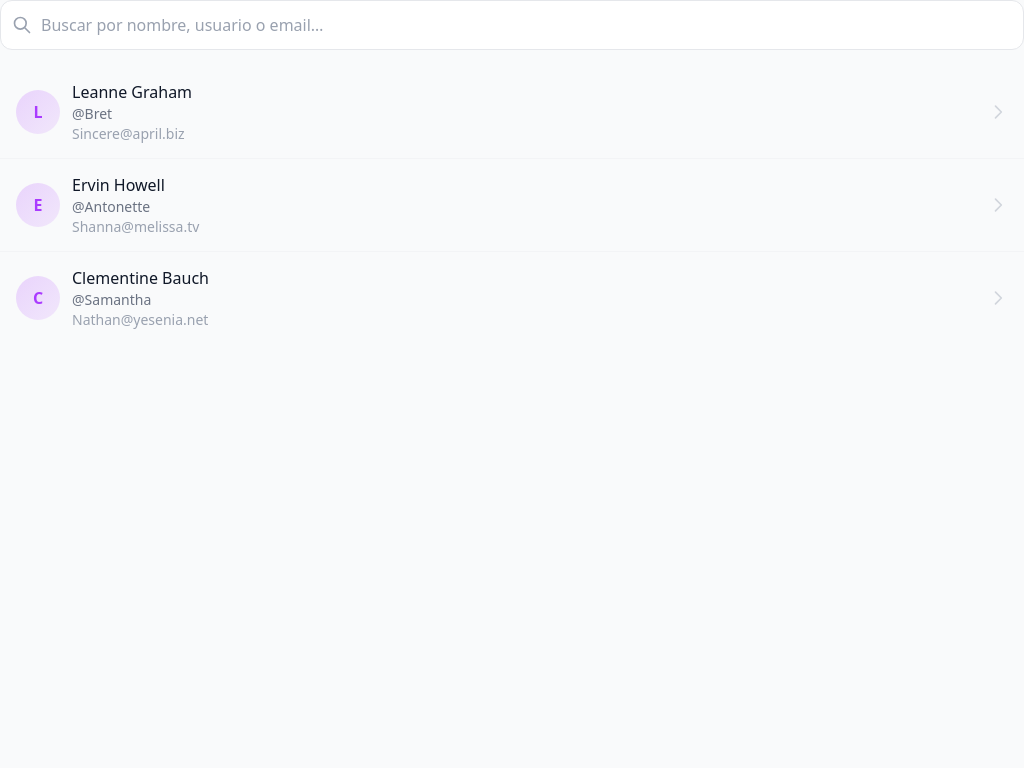
Create Post Dialog › validates required fields on submit
Step 1. Click the heading "Leanne Graham" → (132, 92), box [72,81,192,103]
(page scrolled)
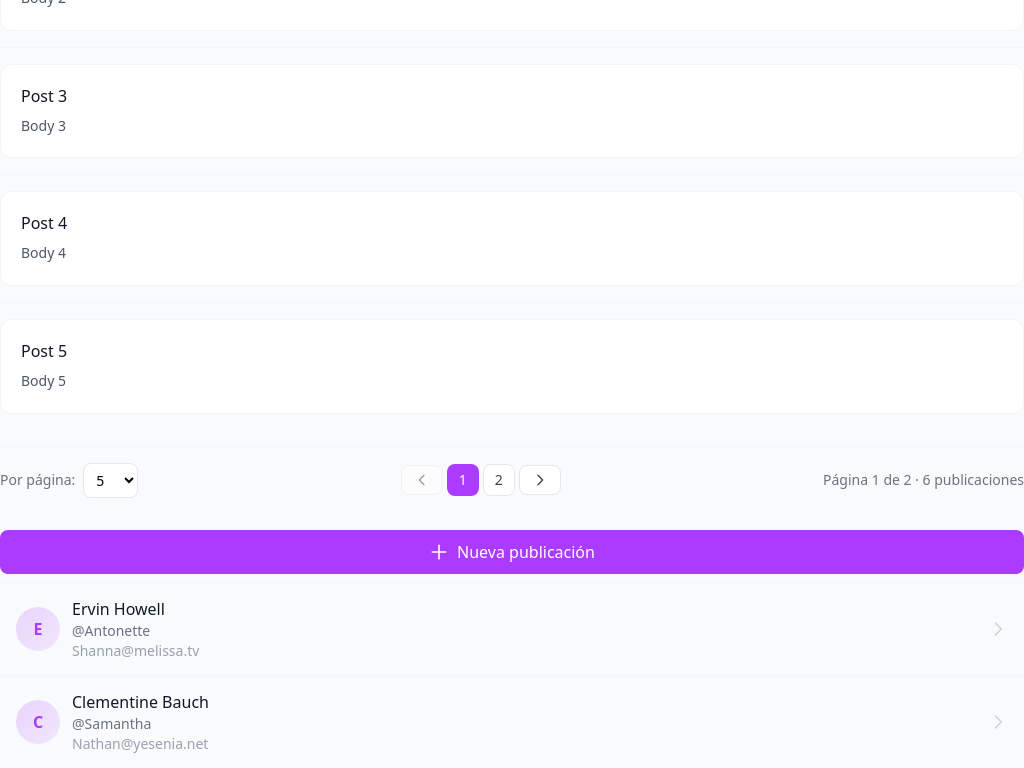
Step 2. Click the button "Nueva publicación" → (512, 552), box [0,530,1023,574]
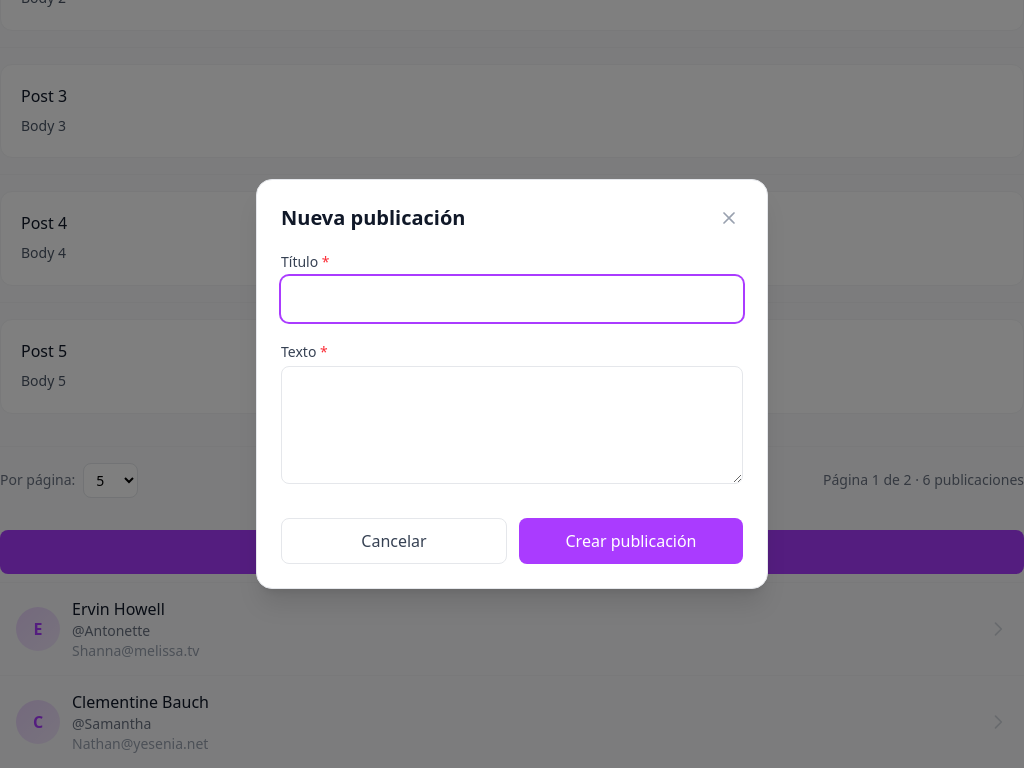
Now the dialog "Nueva publicación" is shown
Step 3. Click the button "Crear publicación" → (631, 541), box [519,518,743,564]
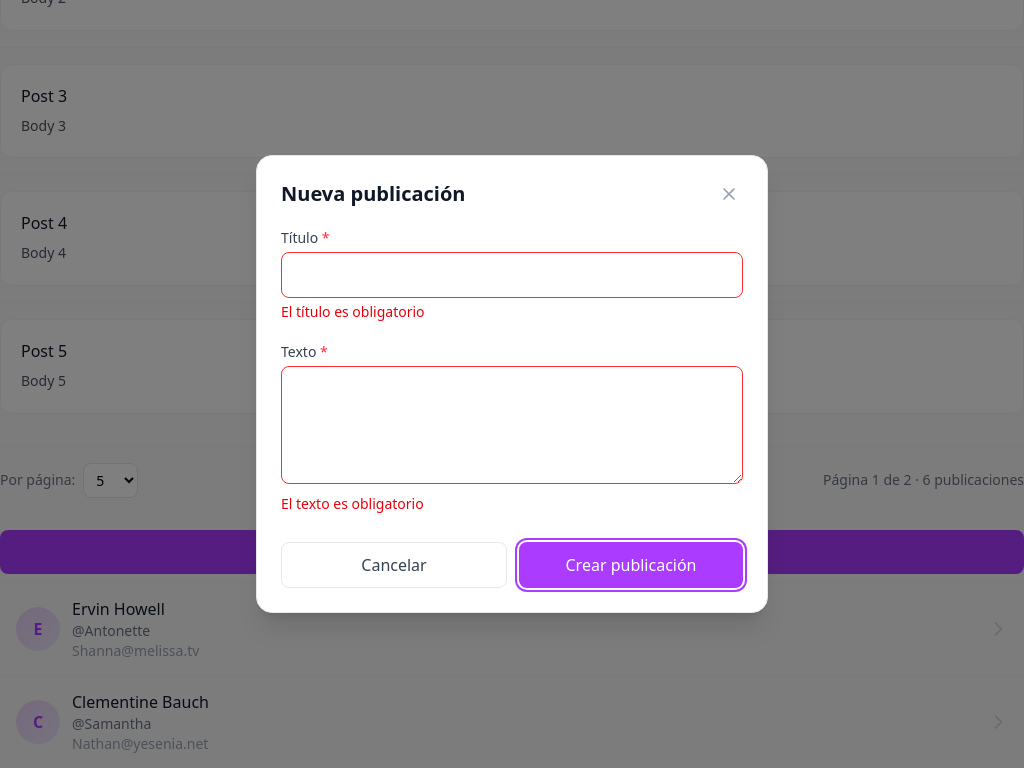
Now the text "El título es obligatorio" is shown, box [281,302,424,321]
Now the text "El texto es obligatorio" is shown, box [281,494,424,513]
